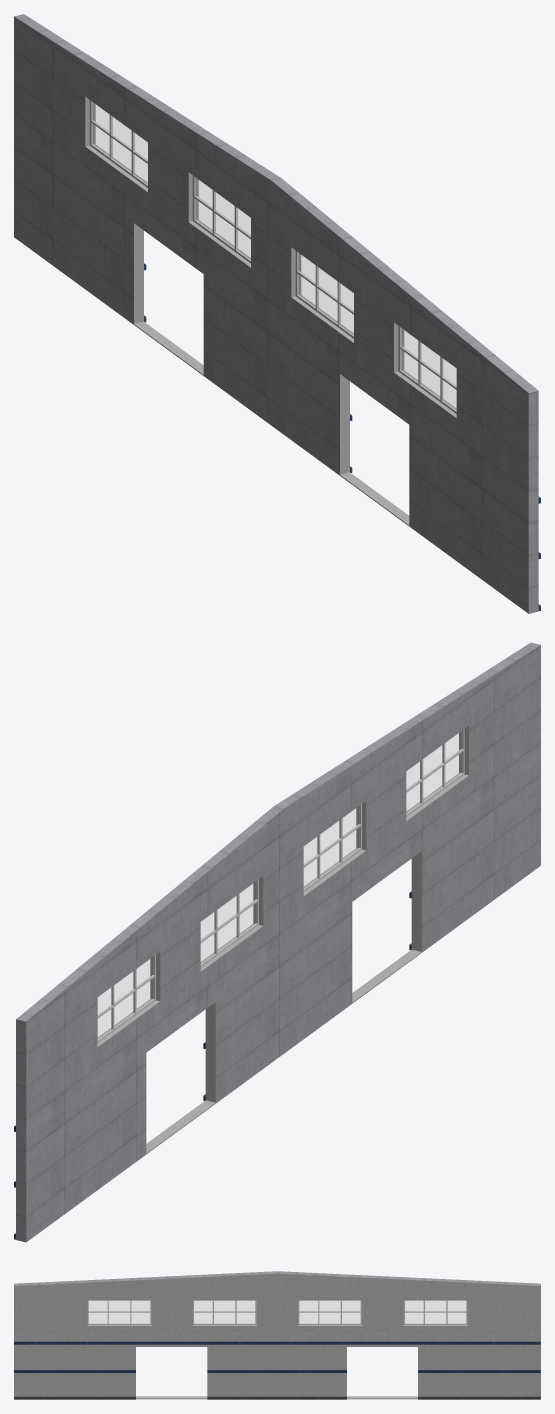
File: WareFront_Walls_WindDoor.FBX
The picture shows the model from 3 angles, top to bottom: view 1: azimuth 30°, elevation 25°; view 2: azimuth 150°, elevation 25°; view 3: azimuth 270°, elevation 25°; orthographic projection. The views are drawn at different scales.
Visible parts, largest first — view 1: WareFront_Walls_WindDoor, WareFront_Windglasse, WareFront_Wind; view 2: WareFront_Walls_WindDoor, WareFront_Windglasse, WareFront_Wind; view 3: WareFront_Walls_WindDoor, WareFront_Windglasse, WareFront_Metal, WareFront_Wind, Object001, Object002.
Boxes of the visible parts, x1,y1,x2,y2 form: WareFront_Walls_WindDoor: (14, 14, 538, 613); WareFront_Windglasse: (93, 103, 455, 409); WareFront_Wind: (89, 100, 456, 413); WareFront_Walls_WindDoor: (16, 642, 540, 1242); WareFront_Windglasse: (98, 731, 461, 1038); WareFront_Wind: (97, 729, 464, 1042); WareFront_Walls_WindDoor: (14, 1271, 540, 1399); WareFront_Windglasse: (89, 1301, 465, 1323); WareFront_Metal: (14, 1341, 540, 1344); WareFront_Wind: (87, 1300, 467, 1324); Object001: (14, 1396, 540, 1399); Object002: (14, 1370, 540, 1372).
Size of the model in its own units: 20.33 by 383 by 1457.
